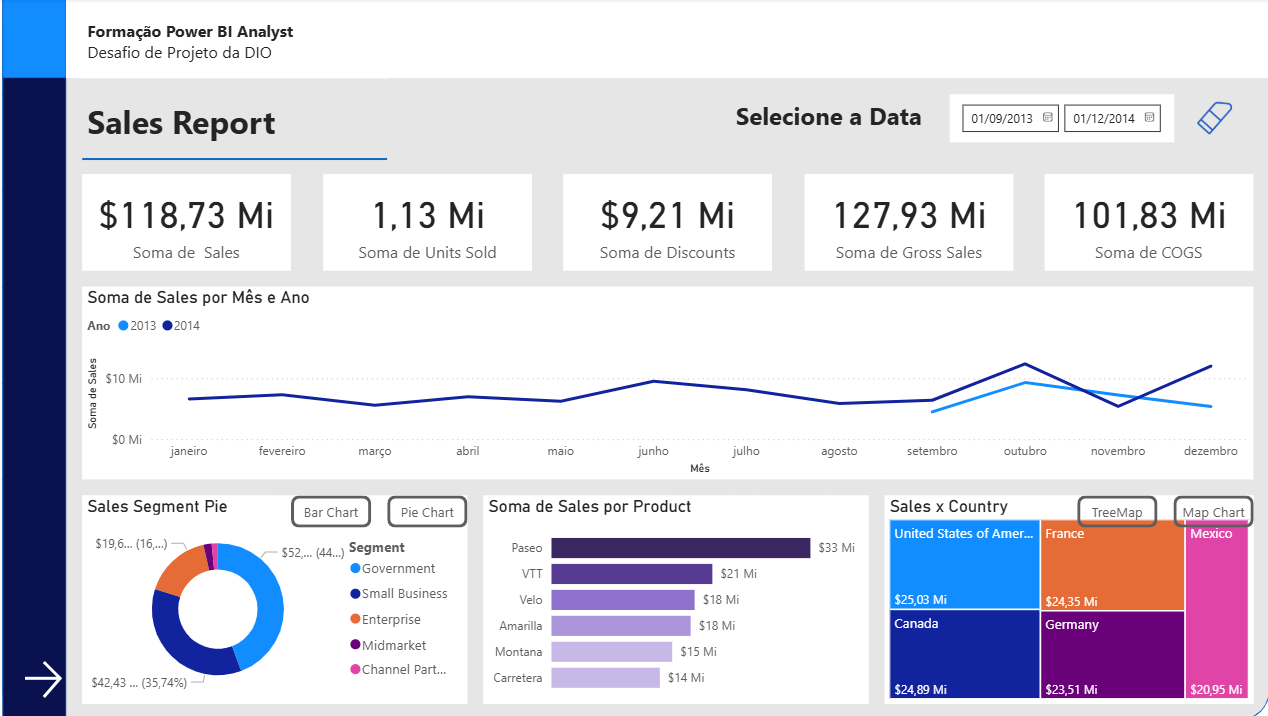

The page's visual inventory and layout, read from the dashboard file:
{"tool":"powerbi","page":{"name":"Sales Report","canvas":[1280,720],"ordinal":0},"visuals":[{"type":"shape","box":[16,0,1264,720],"z":0},{"type":"slicer","fields":{"Values":["financials.Date"]},"box":[960,96,224,48],"z":0,"group":"g2"},{"type":"shape","box":[96,176,208,96],"z":0,"group":"g1"},{"type":"shape","box":[896,496,368,208],"z":0,"group":"g3"},{"type":"shape","box":[16,0,64,720],"z":1000},{"type":"textbox","box":[720,96,240,48],"z":1000,"group":"g2"},{"type":"shape","box":[336,176,208,96],"z":1000,"group":"g1"},{"type":"clusteredBarChart","title":"Sales por Segment barra","fields":{"Category":["financials.Segment"],"Y":["Sum(financials. Sales)"]},"box":[96,496,384,208],"z":1125,"group":"g4"},{"type":"actionButton","title":"Botão - Pie","box":[400,496,80,32],"z":1250,"group":"g4"},{"type":"actionButton","title":"Botão - Bar","box":[304,496,80,32],"z":1500,"group":"g4"},{"type":"shape","box":[16,0,64,80],"z":2000},{"type":"actionButton","box":[1184,96,80,48],"z":2000,"group":"g2"},{"type":"shape","box":[576,176,208,96],"z":2000,"group":"g1"},{"type":"treemap","title":"Sales x Country","fields":{"Group":["financials.Country"],"Values":["Sum(financials. Sales)"]},"box":[896,496,368,208],"z":2000,"group":"g3"},{"type":"actionButton","title":"Botão - Map","box":[1184,496,80,32],"z":2250,"group":"g3"},{"type":"actionButton","title":"Botão - Treemap","box":[1088,496,80,32],"z":2500,"group":"g3"},{"type":"shape","box":[80,0,1200,80],"z":3000},{"type":"image","title":"Clean","box":[1184,96,80,48],"z":3000,"group":"g2"},{"type":"shape","box":[1056,176,208,96],"z":3000,"group":"g1"},{"type":"textbox","box":[96,16,304,64],"z":4000},{"type":"shape","box":[816,176,208,96],"z":4000,"group":"g1"},{"type":"group","id":"g1","title":"Cards","box":[96,176,1168,96],"z":5000},{"type":"card","fields":{"Values":["Sum(financials.Gross Sales)"]},"box":[816,176,208,96],"z":5000,"group":"g1"},{"type":"shape","box":[96,144,304,32],"z":6000},{"type":"card","fields":{"Values":["Sum(financials.COGS)"]},"box":[1056,176,208,96],"z":6000,"group":"g1"},{"type":"textbox","box":[96,96,304,64],"z":7000},{"type":"card","fields":{"Values":["Sum(financials.Units Sold)"]},"box":[336,176,208,96],"z":7000,"group":"g1"},{"type":"card","fields":{"Values":["Sum(financials. Sales)"]},"box":[96,176,208,96],"z":8000,"group":"g1"},{"type":"shape","box":[96,288,1168,192],"z":8000},{"type":"card","fields":{"Values":["Sum(financials.Discounts)"]},"box":[576,176,208,96],"z":9000,"group":"g1"},{"type":"shape","box":[96,496,384,208],"z":9000},{"type":"shape","box":[496,496,384,208],"z":10000},{"type":"lineChart","fields":{"Category":["financials.Date.Variation.Hierarquia de datas.Mês"],"Y":["Sum(financials. Sales)"],"Series":["financials.Date.Variation.Hierarquia de datas.Ano"]},"box":[96,288,1168,192],"z":11000},{"type":"clusteredBarChart","fields":{"Y":["Sum(financials. Sales)"],"Category":["financials.Product"]},"box":[496,496,384,208],"z":12000},{"type":"group","id":"g2","title":"Filtro por data","box":[720,96,544,48],"z":13000},{"type":"group","id":"g3","title":"Sales x country","box":[896,496,368,208],"z":14000},{"type":"group","id":"g4","title":"Sales x Segment","box":[96,496,384,208],"z":15000},{"type":"actionButton","title":"Botão - avançar","box":[32,656,48,48],"z":16000}]}

Visuals, with their boxes on the page's 1280x720 design canvas (x1, y1, x2, y2). These are canvas units, not pixel positions in the 1268x716 screenshot, which may show the page scaled, cropped or inside an application window:
shape: box=[16, 0, 1280, 720]
slicer - financials.Date: box=[960, 96, 1184, 144]
shape: box=[96, 176, 304, 272]
shape: box=[896, 496, 1264, 704]
shape: box=[16, 0, 80, 720]
textbox: box=[720, 96, 960, 144]
shape: box=[336, 176, 544, 272]
"Sales por Segment barra" clusteredBarChart: box=[96, 496, 480, 704]
"Botão - Pie" actionButton: box=[400, 496, 480, 528]
"Botão - Bar" actionButton: box=[304, 496, 384, 528]
shape: box=[16, 0, 80, 80]
actionButton: box=[1184, 96, 1264, 144]
shape: box=[576, 176, 784, 272]
"Sales x Country" treemap: box=[896, 496, 1264, 704]
"Botão - Map" actionButton: box=[1184, 496, 1264, 528]
"Botão - Treemap" actionButton: box=[1088, 496, 1168, 528]
shape: box=[80, 0, 1280, 80]
"Clean" image: box=[1184, 96, 1264, 144]
shape: box=[1056, 176, 1264, 272]
textbox: box=[96, 16, 400, 80]
shape: box=[816, 176, 1024, 272]
"Cards" group: box=[96, 176, 1264, 272]
card - Sum(financials.Gross Sales): box=[816, 176, 1024, 272]
shape: box=[96, 144, 400, 176]
card - Sum(financials.COGS): box=[1056, 176, 1264, 272]
textbox: box=[96, 96, 400, 160]
card - Sum(financials.Units Sold): box=[336, 176, 544, 272]
card - Sum(financials. Sales): box=[96, 176, 304, 272]
shape: box=[96, 288, 1264, 480]
card - Sum(financials.Discounts): box=[576, 176, 784, 272]
shape: box=[96, 496, 480, 704]
shape: box=[496, 496, 880, 704]
lineChart - financials.Date.Variation.Hierarquia de datas.Mês x Sum(financials. Sales): box=[96, 288, 1264, 480]
clusteredBarChart - Sum(financials. Sales) x financials.Product: box=[496, 496, 880, 704]
"Filtro por data" group: box=[720, 96, 1264, 144]
"Sales x country" group: box=[896, 496, 1264, 704]
"Sales x Segment" group: box=[96, 496, 480, 704]
"Botão - avançar" actionButton: box=[32, 656, 80, 704]
